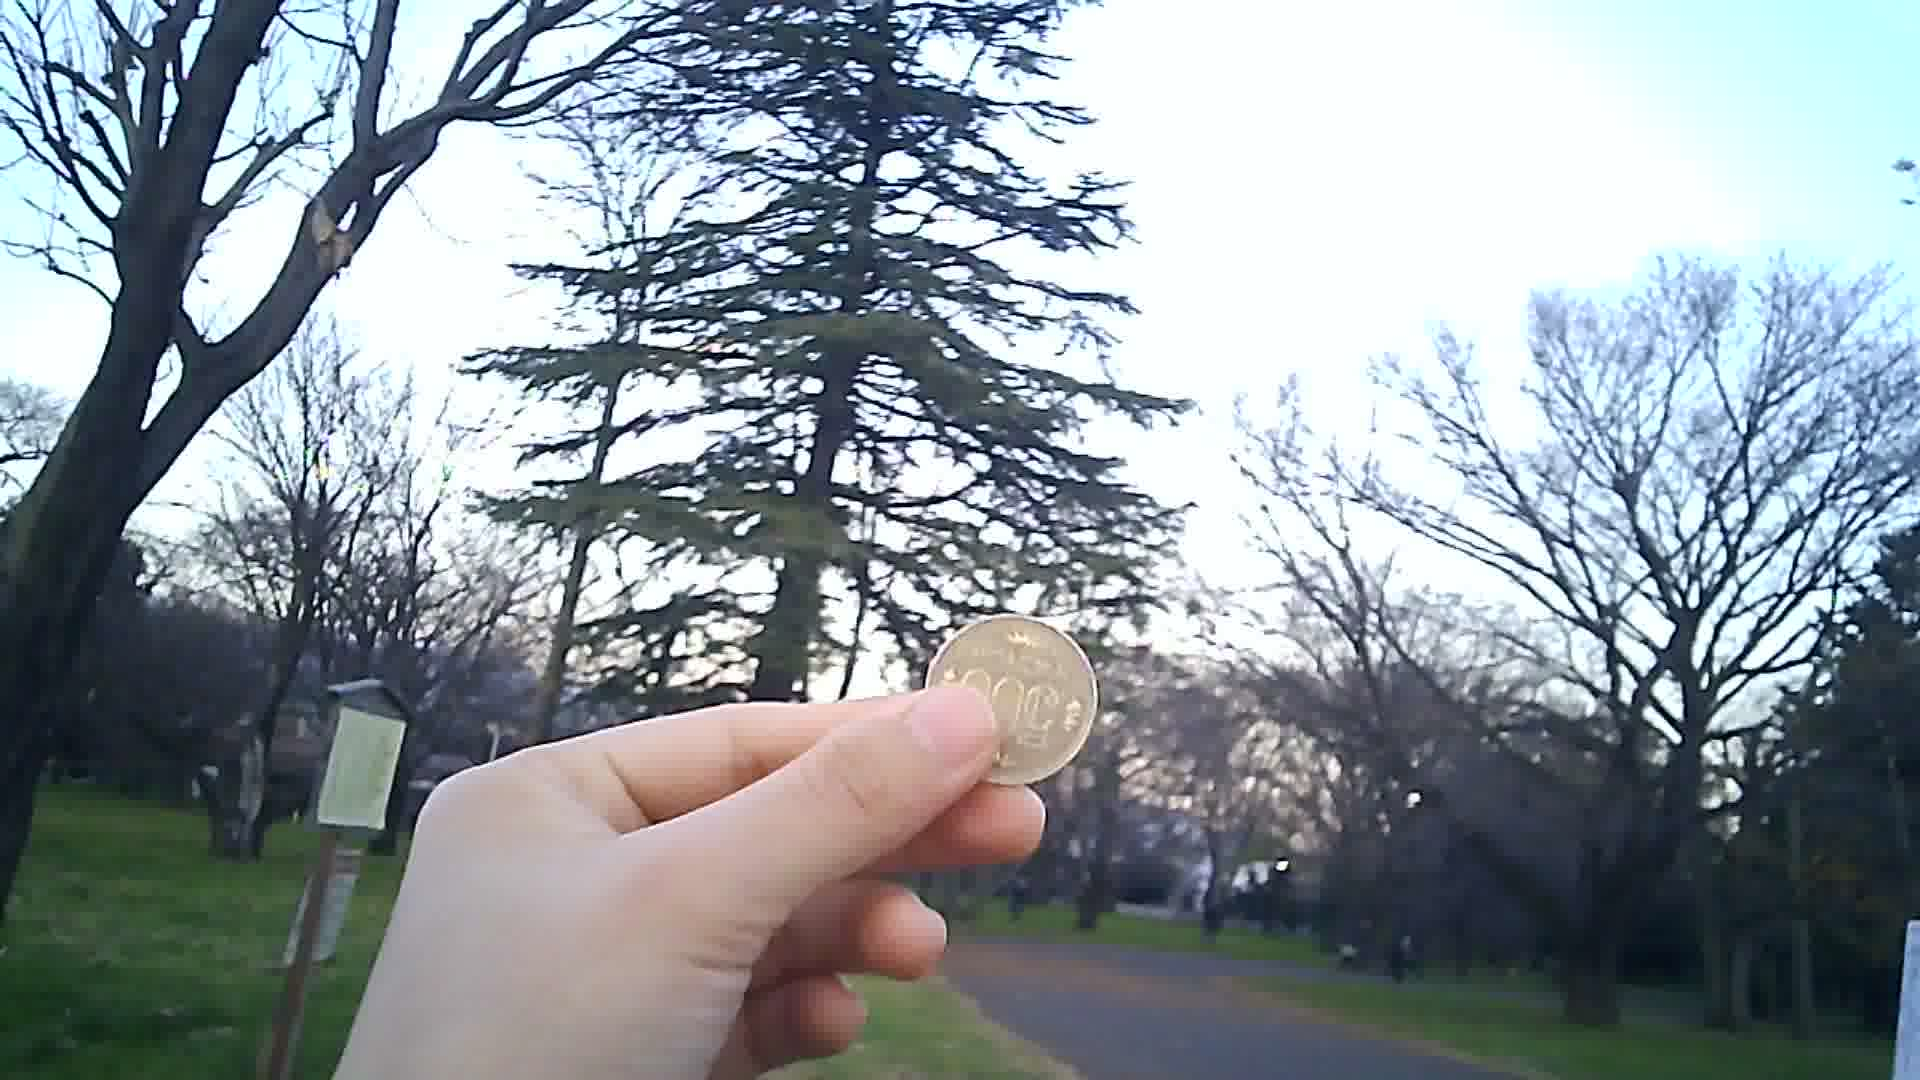500 Yen: (918, 611, 1104, 789)
